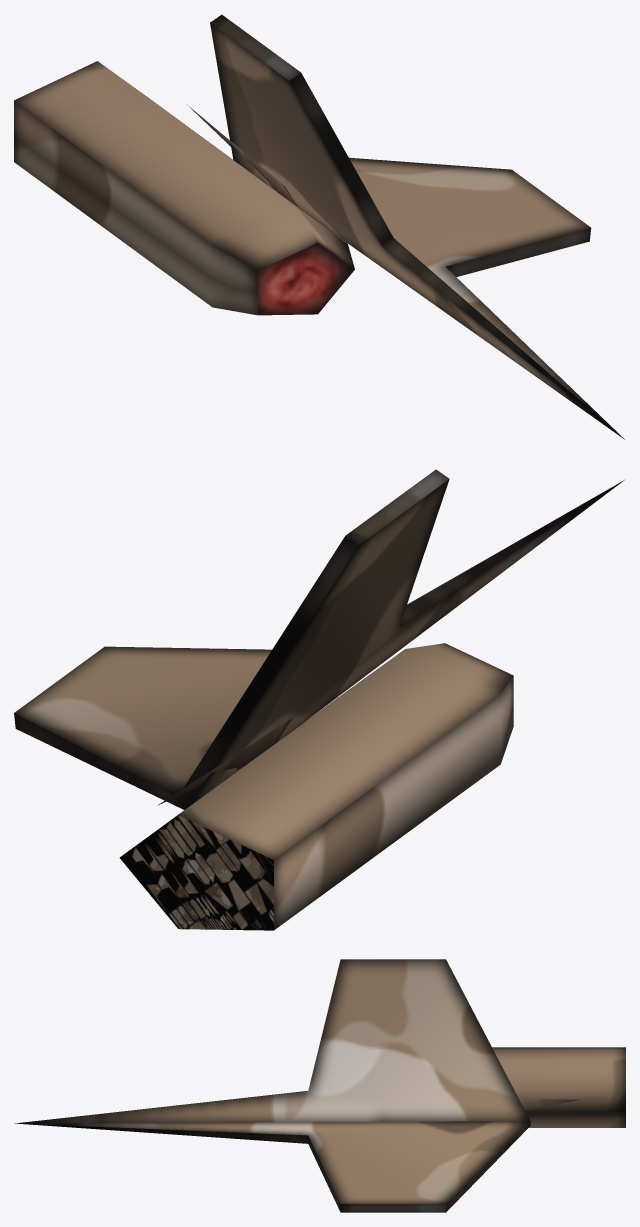
The model's file is F35egerDestructionPart4.fbx.
3 views of the same model, one above another, from view 1: azimuth 30°, elevation 25°; view 2: azimuth 150°, elevation 25°; view 3: azimuth 270°, elevation 25° (orthographic). The views are drawn at different scales.
Parts seen in each view (by area): view 1: Flieger__Rumpf_; view 2: Flieger__Rumpf_; view 3: Flieger__Rumpf_.
Boxes of the visible parts, box(x1,y1,x2,y2) form: Flieger__Rumpf_: box(14, 14, 624, 439); Flieger__Rumpf_: box(14, 469, 624, 930); Flieger__Rumpf_: box(14, 959, 625, 1212).
Bounding box in the file's own units: 3.91 × 2.56 × 8.6.
Materials: 1 (1 with a texture image).
